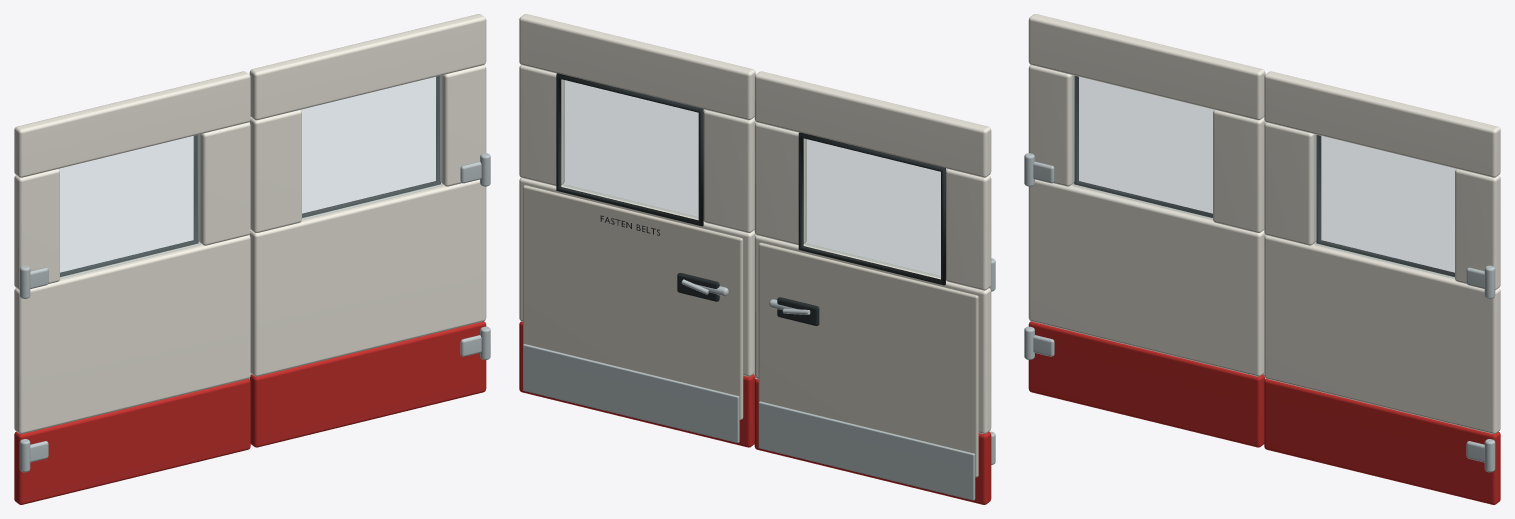
The model's file is BraunDoors.fbx.
3 views of the same model, side by side, from view 1: azimuth 30°, elevation 25°; view 2: azimuth 150°, elevation 25°; view 3: azimuth 330°, elevation 25° (orthographic).
Parts seen in each view (by area): view 1: BraunDoors; view 2: BraunDoors; view 3: BraunDoors.
Boxes of the visible parts, left/top/right/bottom form: BraunDoors: left=14, top=14, right=490, bottom=504; BraunDoors: left=519, top=14, right=995, bottom=504; BraunDoors: left=1024, top=14, right=1500, bottom=504.
Size of the model in its own units: 235 by 180 by 15.7.
